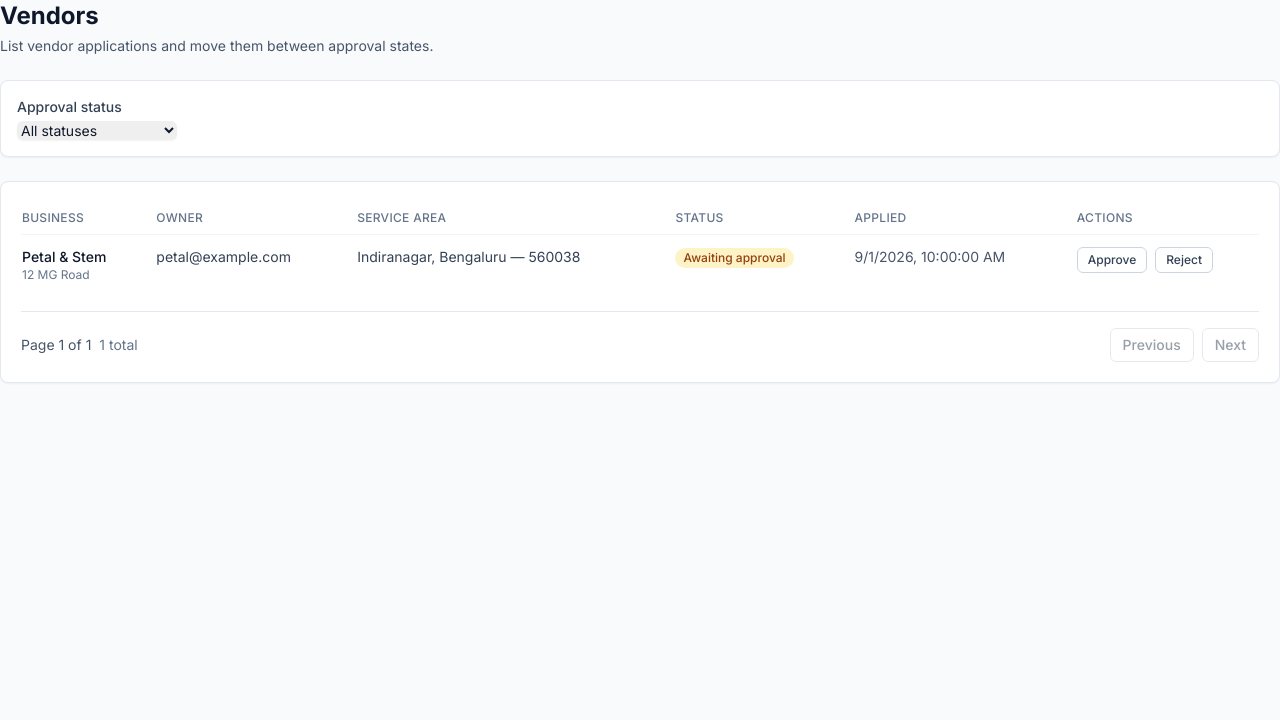
Test: AdminVendorsPage › shows a backend field-level validation message on the reason input
The image size is (1280, 720).
expect the table is shown: met, box [21,202,1259,295]
Click the button "Reject". click: (1184, 260)
box: [1155,247,1213,273]
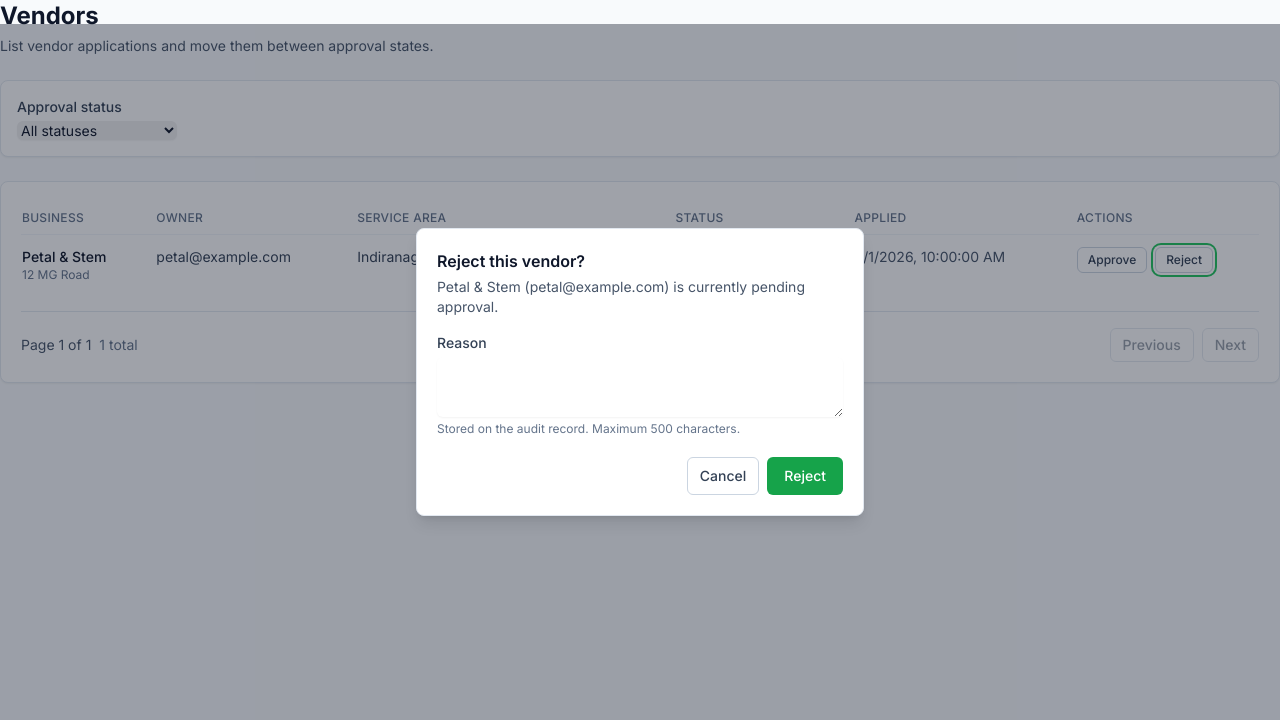
Type "placeholder" into the text box labelled "Reason". click: (640, 387)
box: [437,357,843,417]
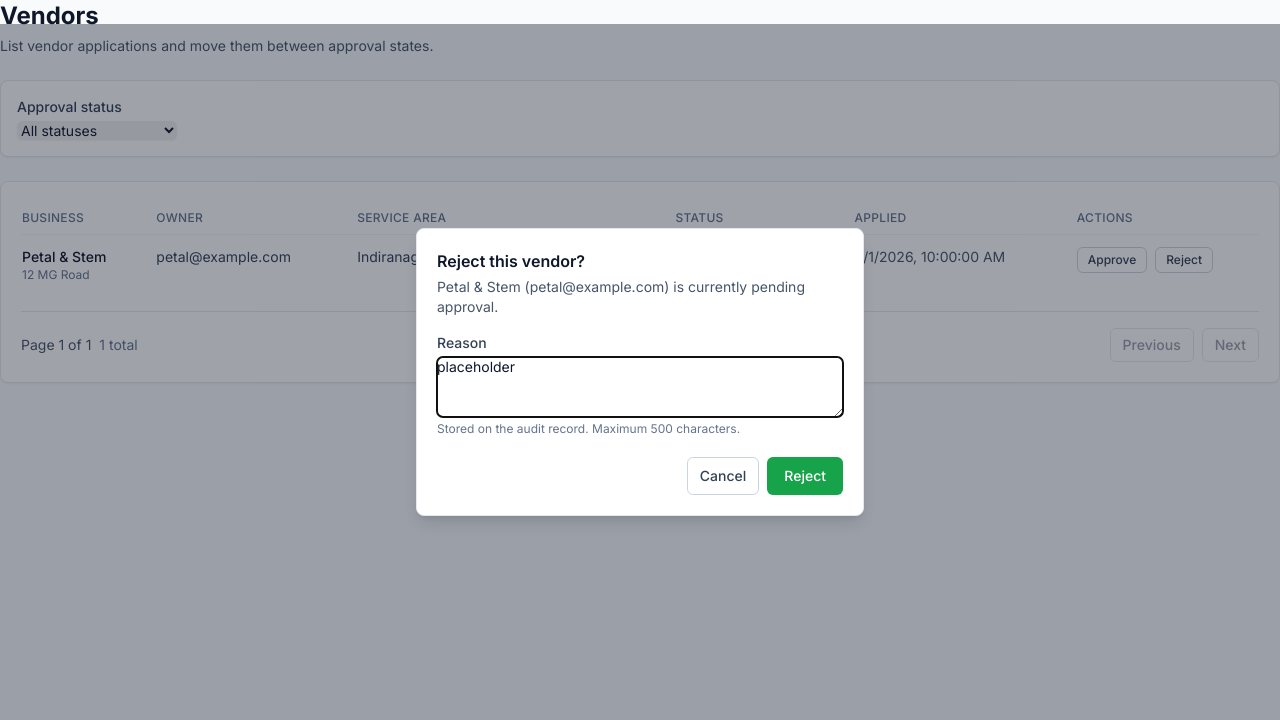
Click the button "Reject". click: (805, 476)
box: [767,457,843,495]
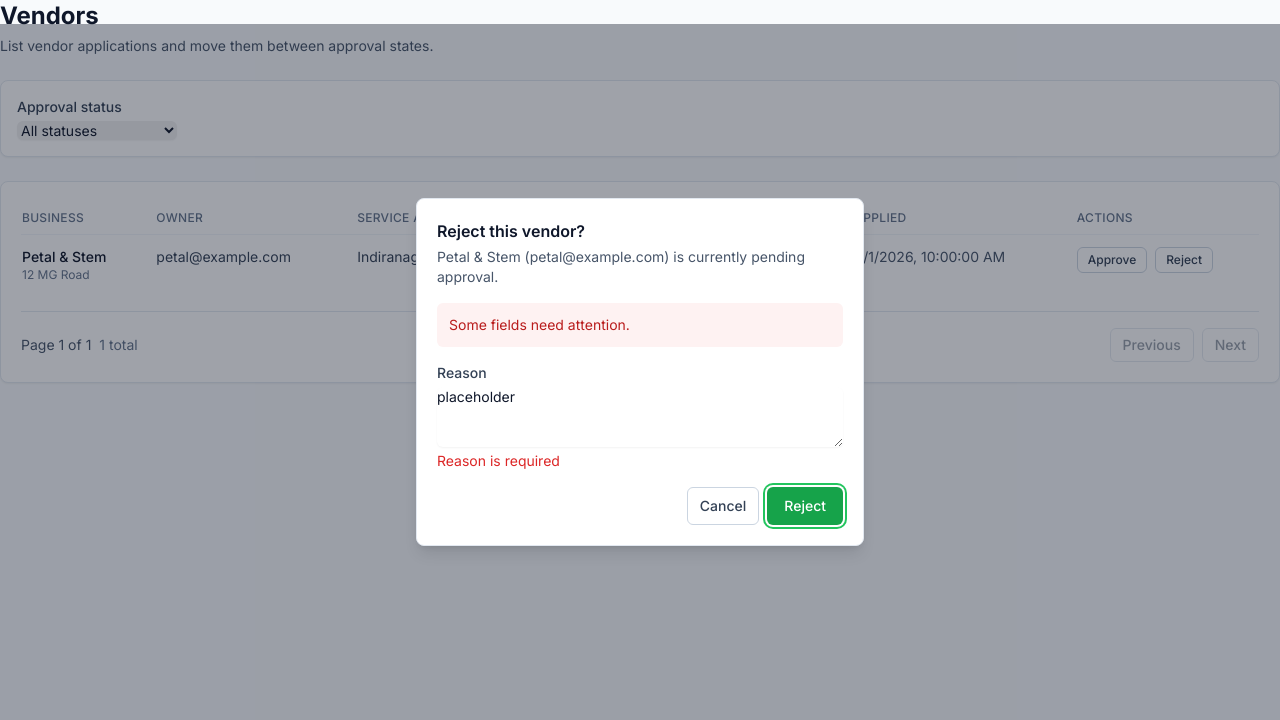
expect the text "Reason is required" is shown: met, box [437,452,560,469]
